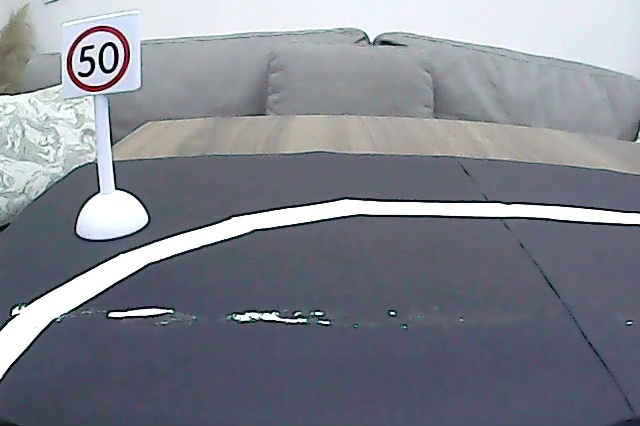speed limit 50: (64, 22, 134, 95)
